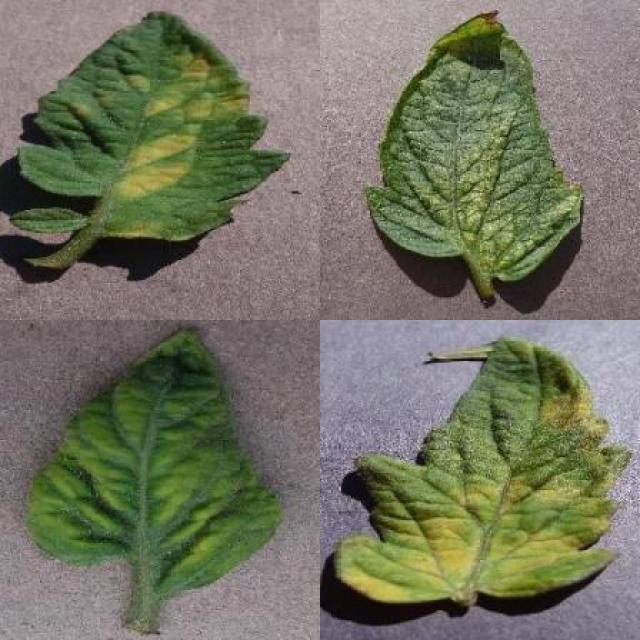Leaf Mold: (334, 335, 632, 602), (20, 8, 293, 242)
Spider Mites: (368, 9, 585, 285)
Yellow Leaf Curl Virus: (24, 328, 279, 599)
